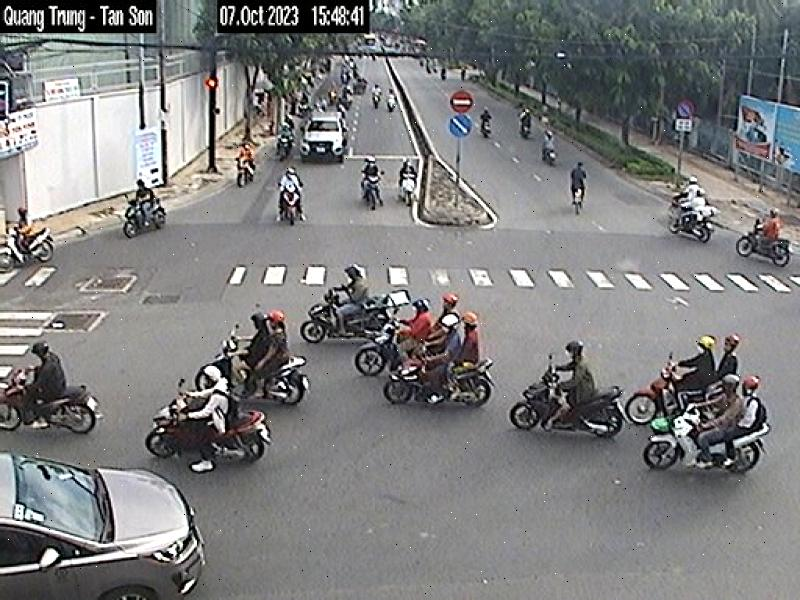car: (0, 450, 210, 600), (298, 108, 350, 166)
motorcycle: (642, 398, 771, 478), (141, 393, 272, 467), (196, 334, 318, 411), (504, 367, 625, 444), (377, 345, 499, 417), (1, 365, 104, 437), (298, 286, 399, 342), (626, 361, 686, 422), (734, 223, 800, 274), (0, 224, 61, 274), (354, 319, 401, 377), (116, 197, 179, 240), (665, 202, 715, 247), (273, 182, 308, 226), (397, 172, 423, 210), (362, 174, 386, 209)
